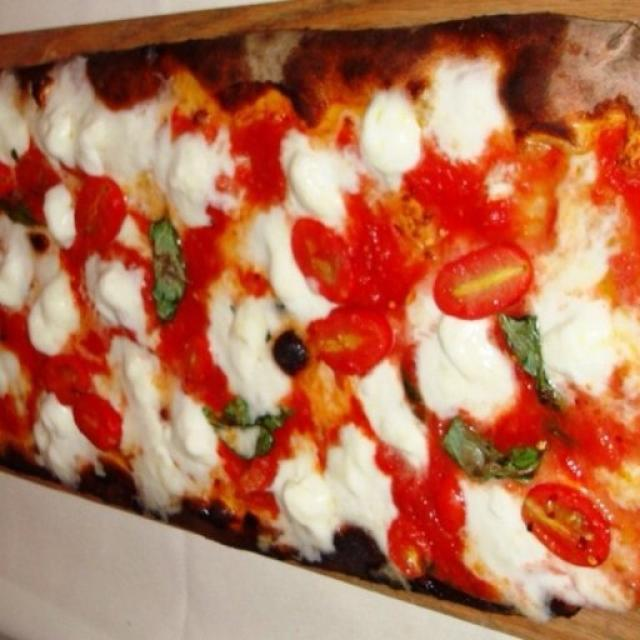Basil: (502, 318, 558, 412), (439, 425, 538, 476), (146, 214, 183, 320), (210, 396, 285, 446)
Cheese: (110, 346, 207, 500), (550, 198, 621, 392), (0, 90, 164, 172), (280, 438, 386, 543), (409, 299, 499, 413), (245, 200, 315, 306), (357, 364, 425, 465), (209, 284, 269, 397), (430, 63, 492, 157), (282, 142, 350, 226), (26, 252, 80, 357), (474, 492, 524, 593), (160, 145, 234, 211), (41, 393, 94, 479), (363, 85, 413, 169), (91, 261, 144, 334), (0, 218, 30, 310), (0, 354, 32, 403), (47, 185, 71, 241)
Olives: (276, 332, 307, 380)
Pizza: (0, 14, 640, 622)
Tomato: (438, 243, 531, 318), (529, 478, 609, 565), (322, 302, 379, 374), (299, 219, 352, 289), (82, 180, 120, 244)
